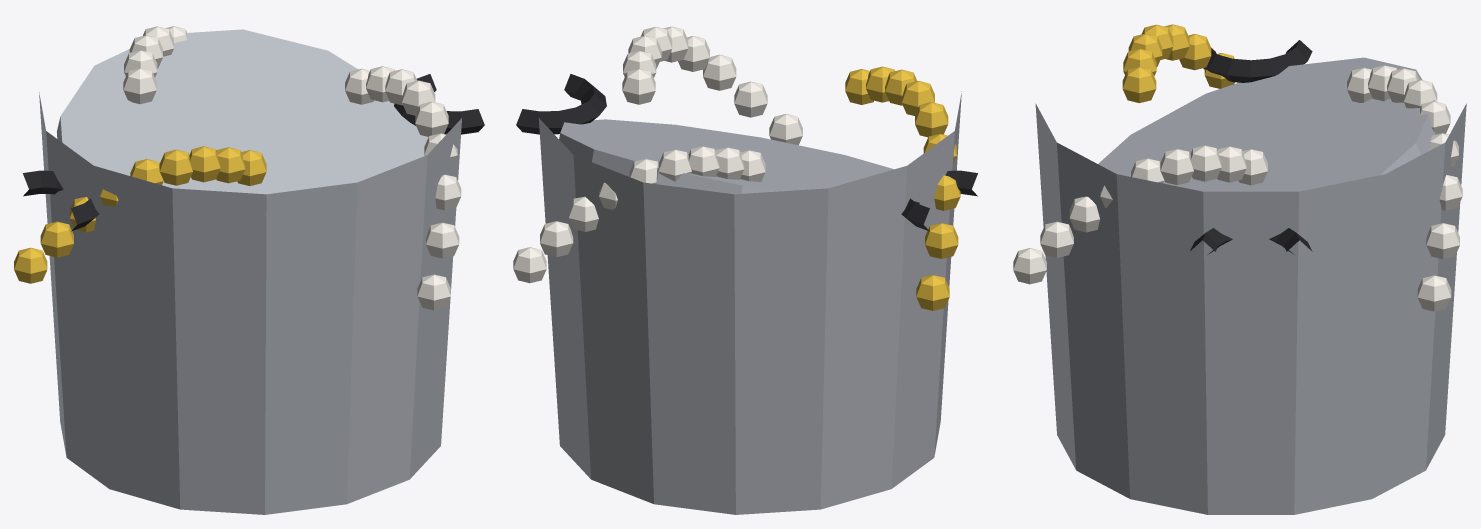
File: kitchen_pot_necklaces.glb
The picture shows the model from 3 angles, left to right: view 1: azimuth 30°, elevation 25°; view 2: azimuth 150°, elevation 25°; view 3: azimuth 270°, elevation 25°; orthographic projection.
Parts seen in each view (by area): view 1: pot_kitchen_steel, bottom_kitchen_steel, necklace_necklace_pearl, necklace_necklace_gold, handles_kitchen_black; view 2: pot_kitchen_steel, necklace_necklace_pearl, bottom_kitchen_steel, necklace_necklace_gold, handles_kitchen_black; view 3: pot_kitchen_steel, bottom_kitchen_steel, necklace_necklace_pearl, necklace_necklace_gold, handles_kitchen_black.
Part boxes in pixels (bbox=[...]): pot_kitchen_steel: bbox=[39, 92, 461, 514]; bottom_kitchen_steel: bbox=[57, 29, 428, 194]; necklace_necklace_pearl: bbox=[123, 26, 461, 310]; necklace_necklace_gold: bbox=[14, 146, 266, 283]; handles_kitchen_black: bbox=[23, 74, 484, 231]; pot_kitchen_steel: bbox=[538, 91, 961, 514]; necklace_necklace_pearl: bbox=[513, 26, 802, 283]; bottom_kitchen_steel: bbox=[559, 119, 893, 194]; necklace_necklace_gold: bbox=[845, 66, 960, 310]; handles_kitchen_black: bbox=[516, 74, 977, 231]; pot_kitchen_steel: bbox=[1035, 103, 1466, 514]; bottom_kitchen_steel: bbox=[1098, 57, 1435, 191]; necklace_necklace_pearl: bbox=[1013, 65, 1462, 311]; necklace_necklace_gold: bbox=[1122, 24, 1234, 103]; handles_kitchen_black: bbox=[1190, 40, 1312, 254].
Bounding box in the file's own units: 0.4552 × 0.3604 × 0.4206.
